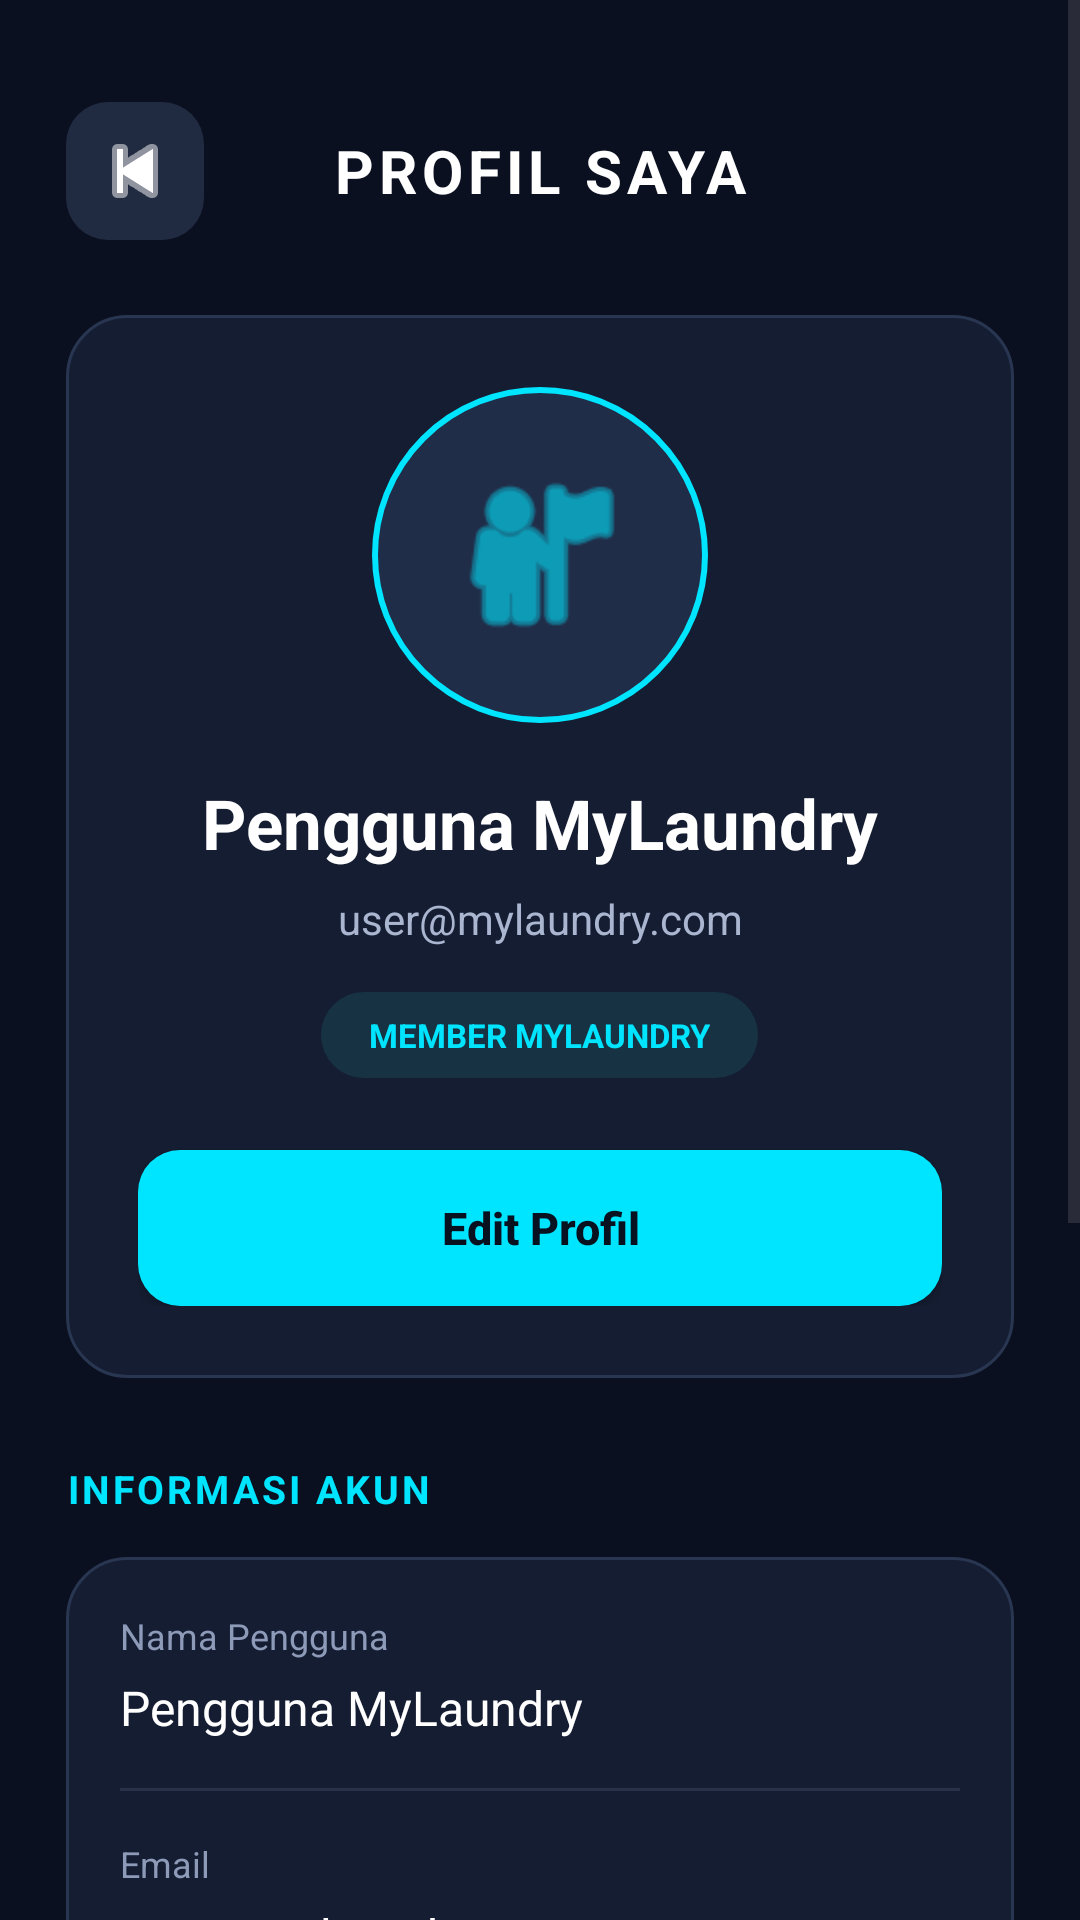

Where to tap for icons on this 1080*1920 app screen, as [x,y]:
Foto profil: [540,555]
Kembali: [135,171]
